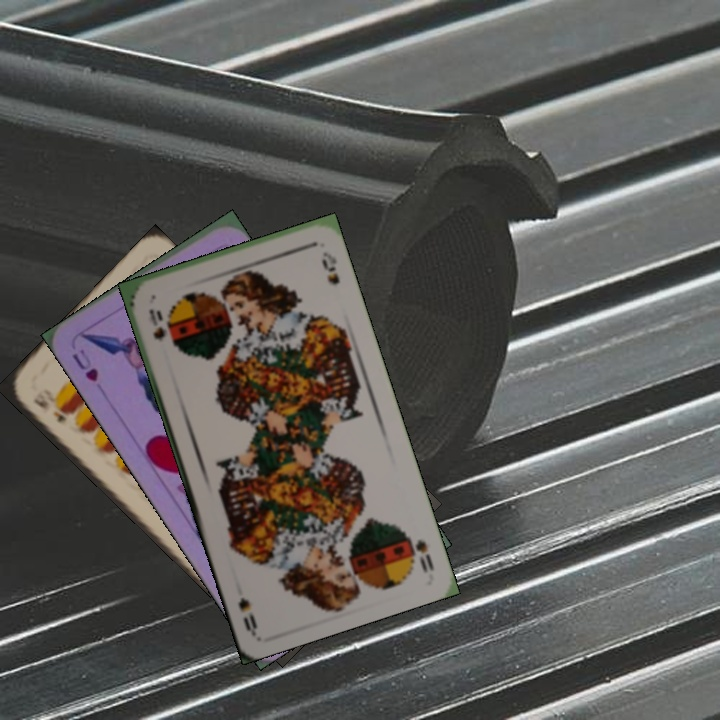E10: (28, 386, 71, 425)
HU: (67, 344, 101, 384)
SO: (411, 535, 437, 576), (145, 305, 169, 343)
